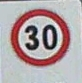limite 30: (9, 6, 70, 67)
